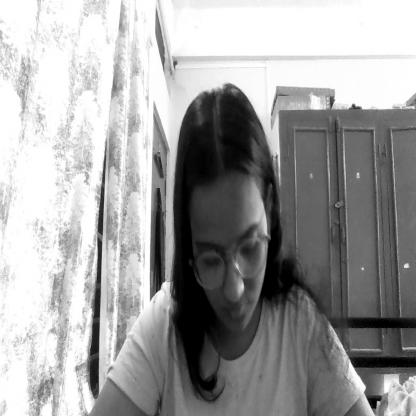Distracted: (172, 106, 272, 346)
